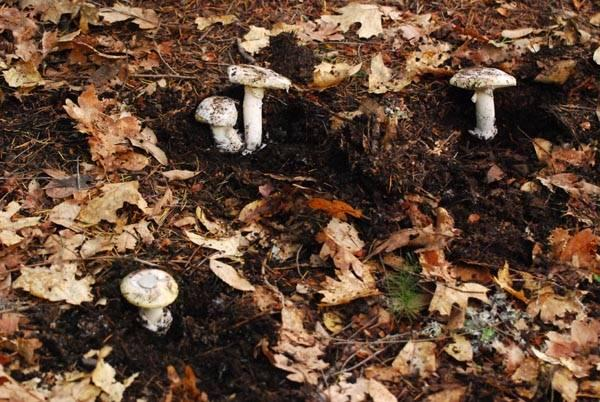Edible Mushroom: (226, 62, 292, 154), (448, 65, 516, 140), (119, 267, 178, 334), (194, 94, 243, 153)
